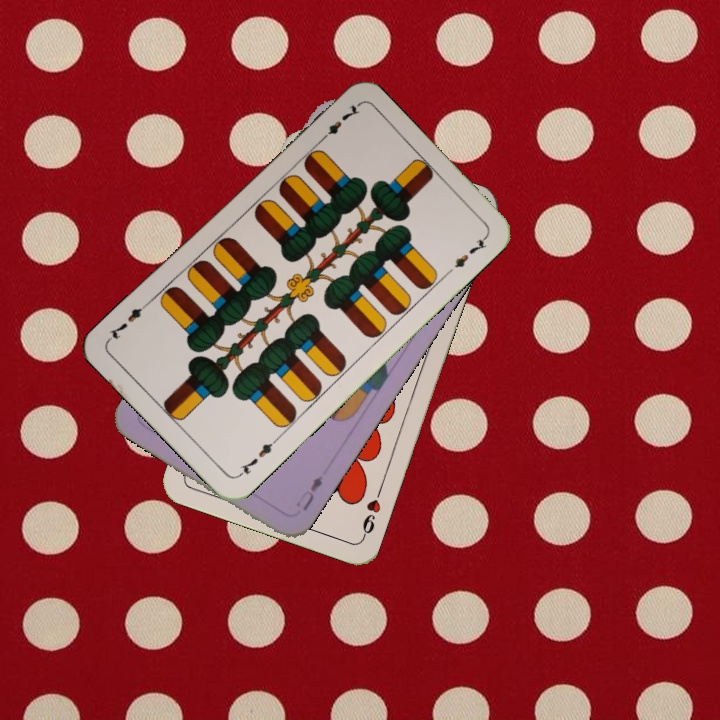E7: (315, 100, 363, 146), (234, 434, 281, 480)
EU: (295, 471, 326, 514)
H9: (358, 484, 385, 541)
